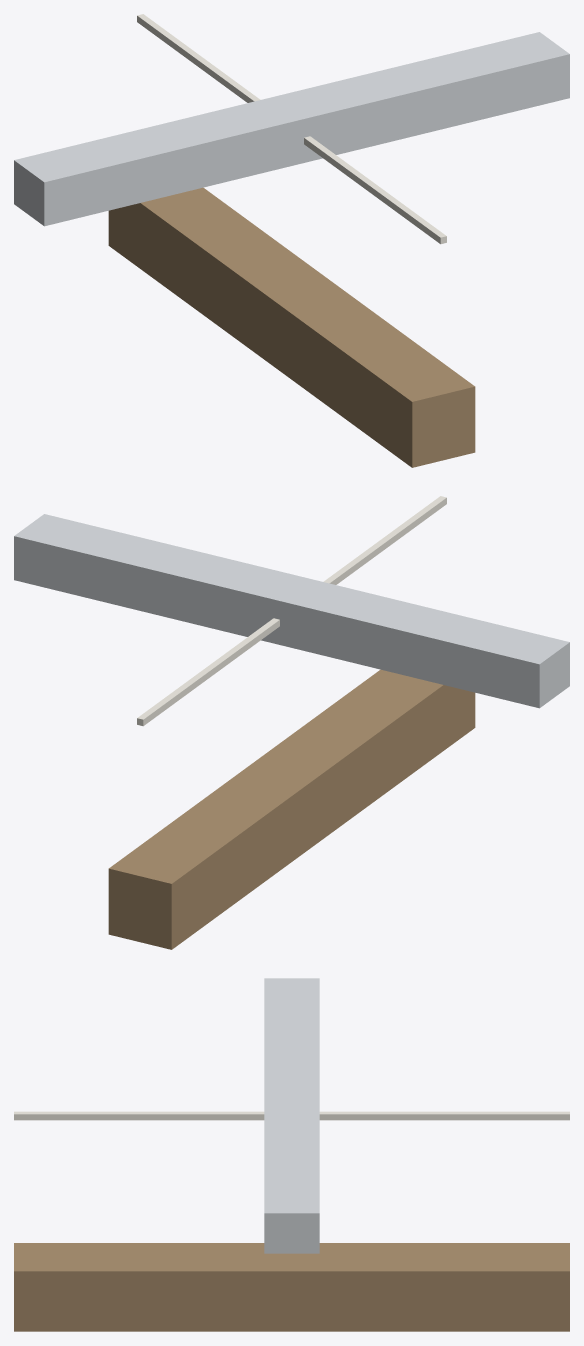
The model's file is wpn_crossbow.glb.
The picture shows the model from 3 angles, top to bottom: view 1: azimuth 30°, elevation 25°; view 2: azimuth 150°, elevation 25°; view 3: azimuth 270°, elevation 25°; orthographic projection. The views are drawn at different scales.
Visible parts, largest first — view 1: wpn_crossbow; view 2: wpn_crossbow; view 3: wpn_crossbow.
Part boxes in pixels (left/top/right/bottom): wpn_crossbow: left=14, top=14, right=569, bottom=467; wpn_crossbow: left=14, top=496, right=569, bottom=949; wpn_crossbow: left=14, top=978, right=569, bottom=1331.
Size of the model in its own units: 0.5 by 0.22 by 0.5.
